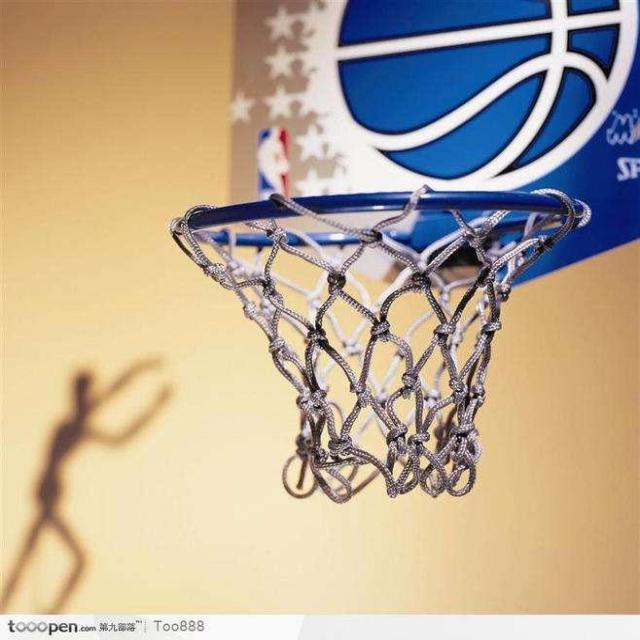rim: (167, 185, 590, 503)
